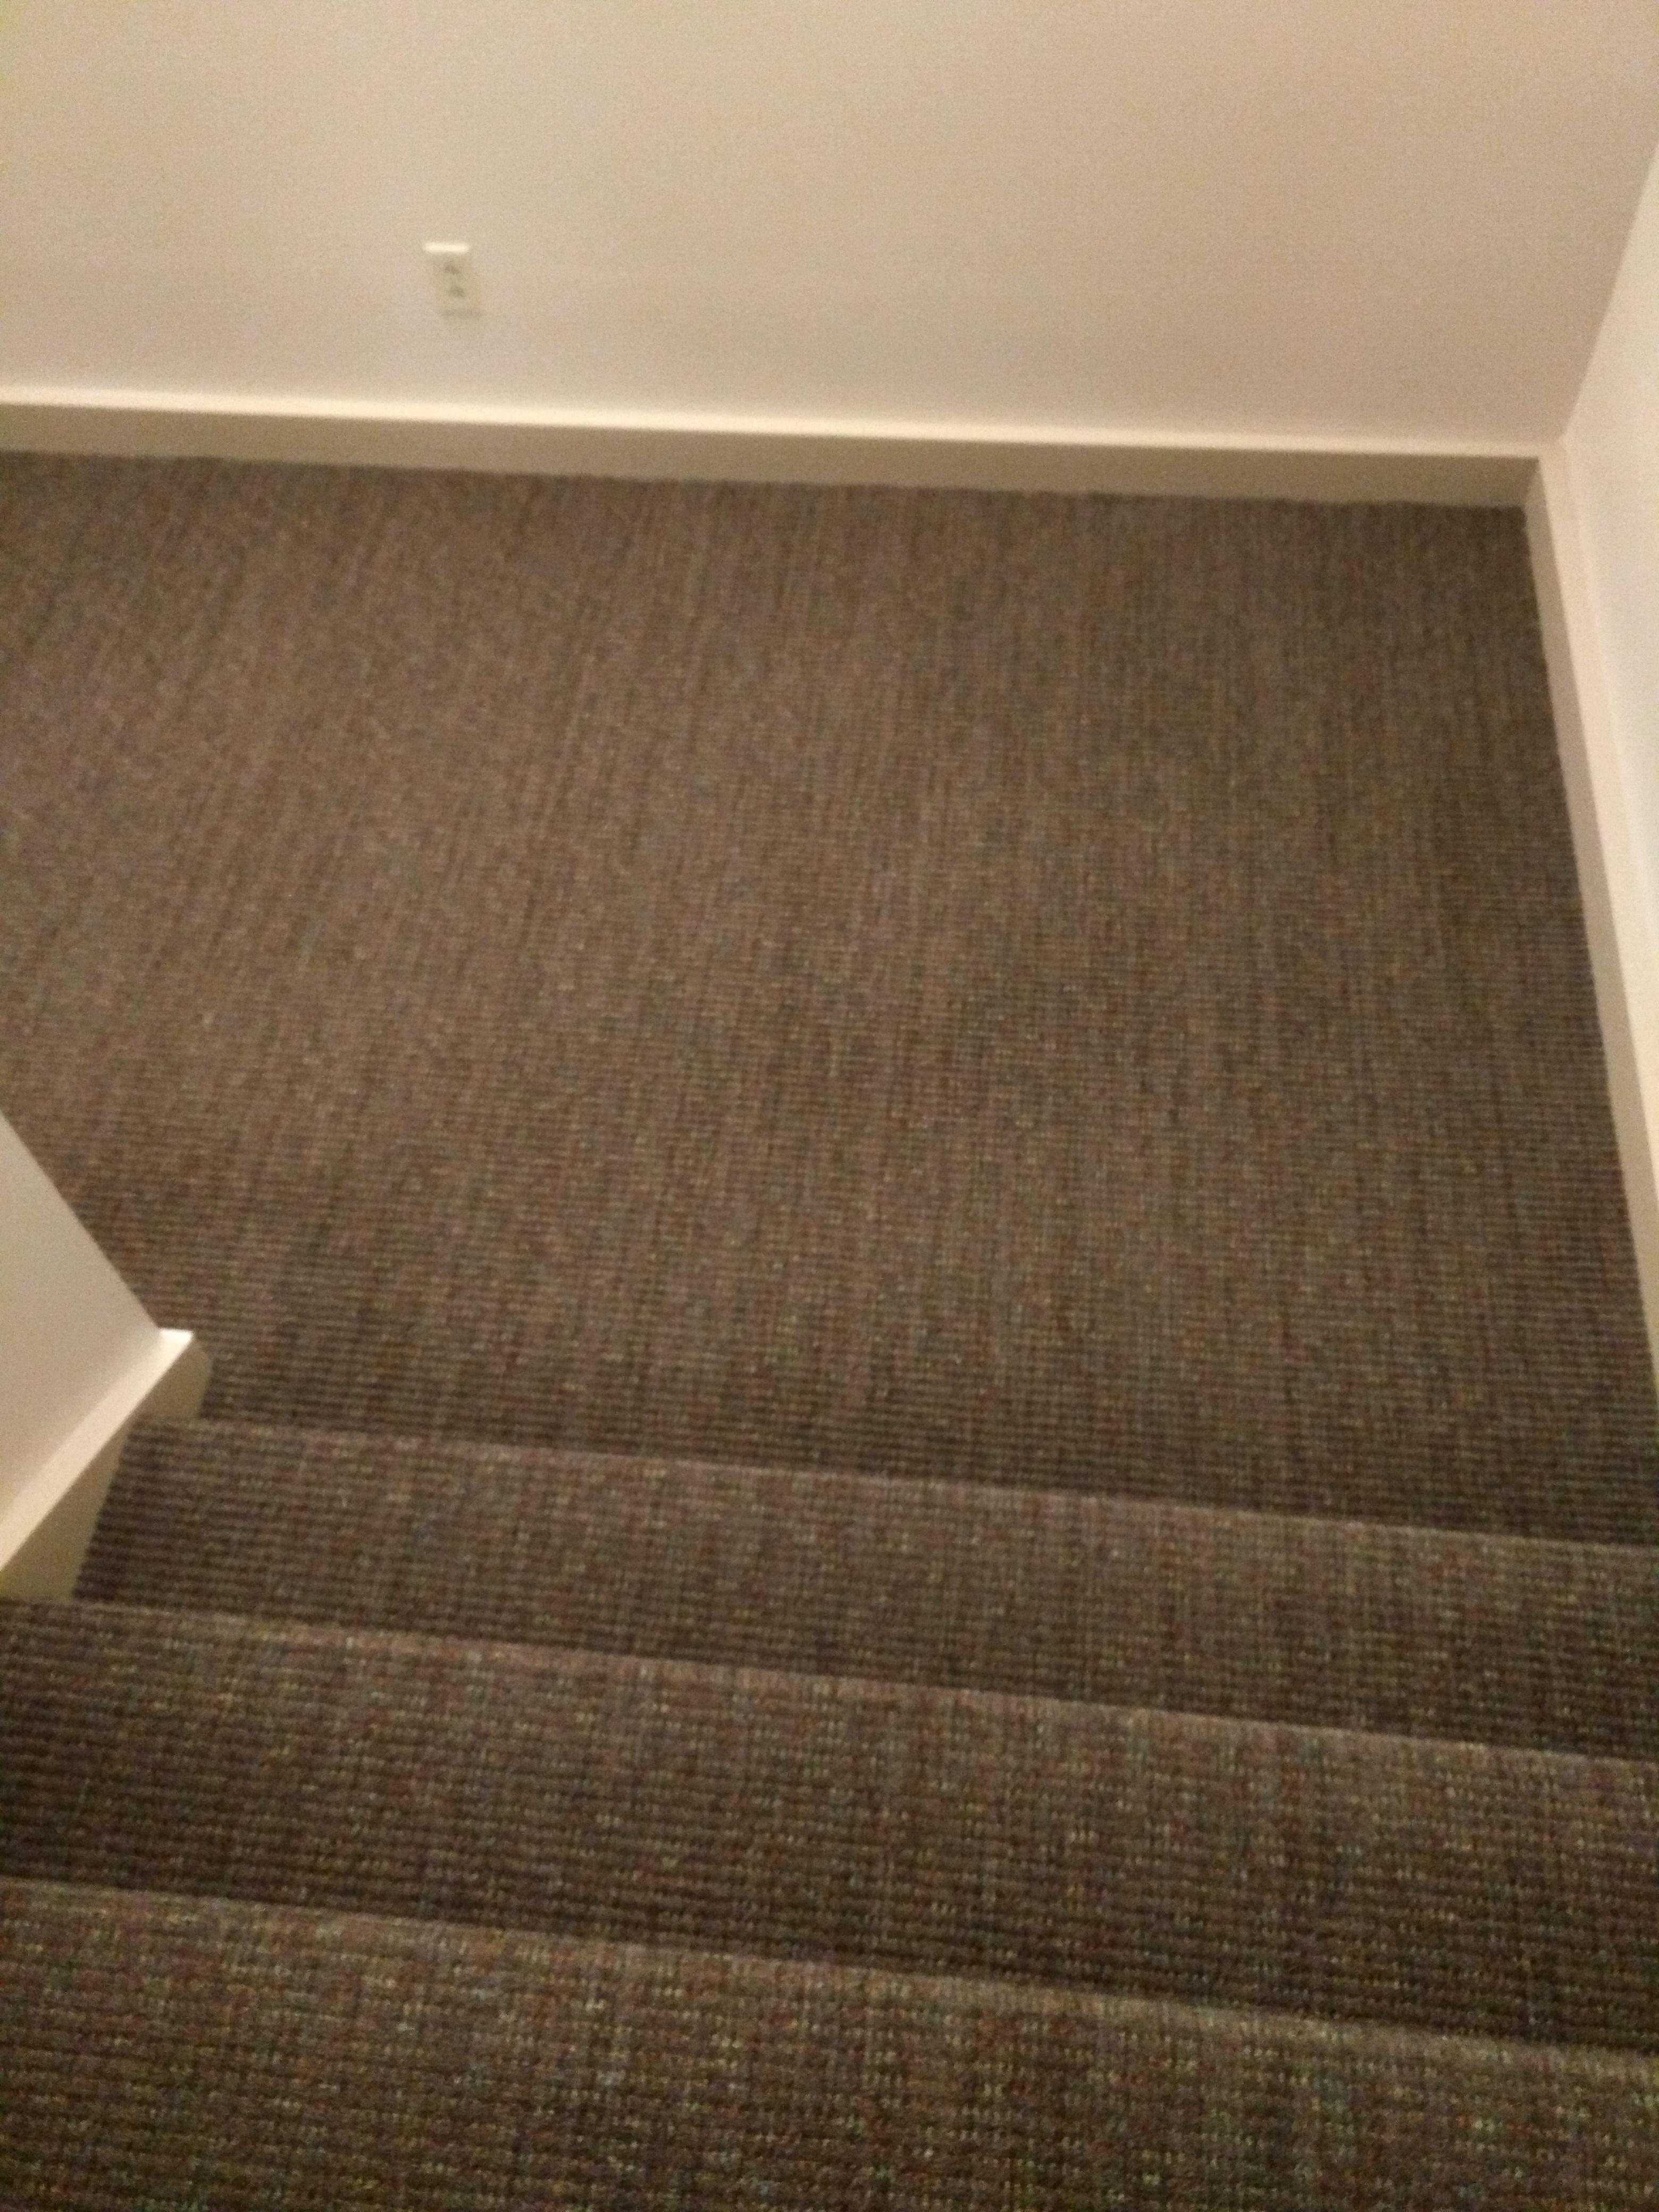stairs_down: (12, 1366, 1659, 2212)
